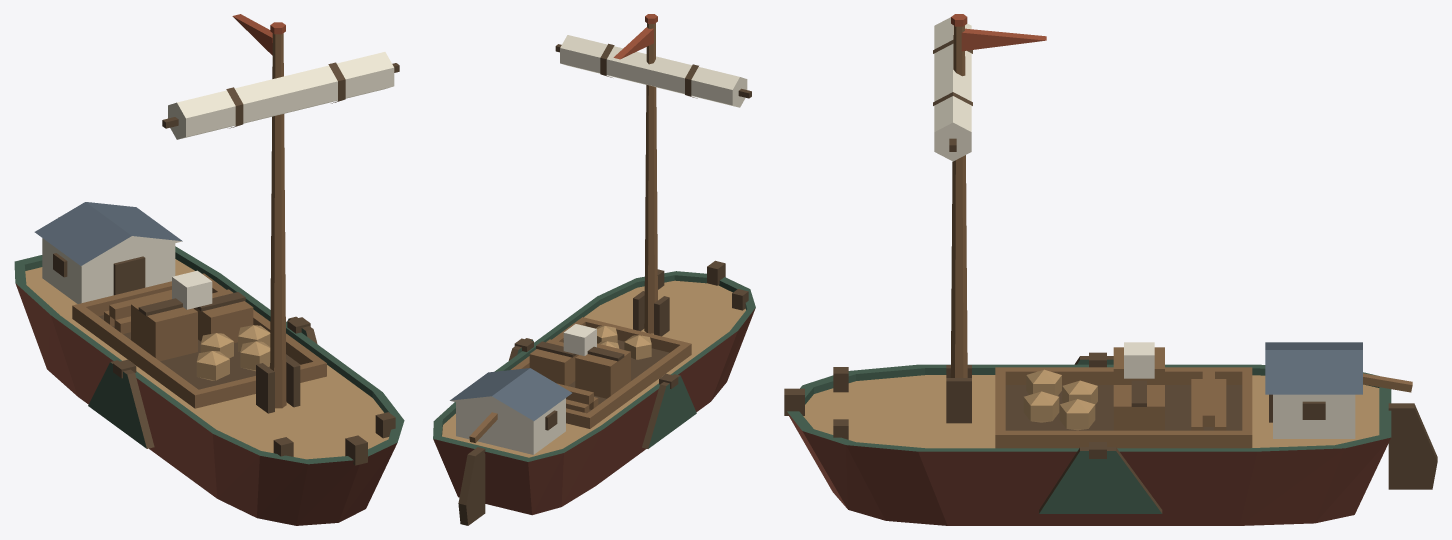
File: barge.glb
3 renders of one model, left to right at view 1: azimuth 30°, elevation 25°; view 2: azimuth 150°, elevation 25°; view 3: azimuth 270°, elevation 25°, orthographic. The views are drawn at different scales.
Parts seen in each view (by area): view 1: hull, mast, cargo; view 2: hull, mast, cargo; view 3: hull, cargo, mast.
Boxes of the visible parts, box(x1,y1,x2,y2) form: hull: box(14, 202, 404, 525); mast: box(162, 14, 399, 408); cargo: box(104, 270, 270, 380); hull: box(433, 260, 755, 525); mast: box(555, 14, 751, 333); cargo: box(529, 324, 651, 413); hull: box(784, 342, 1437, 525); cargo: box(1023, 342, 1226, 430); mast: box(933, 14, 1046, 377).
Bounding box in the file's own units: 5.5 × 10.19 × 12.7.
1 material, 1 textured.
